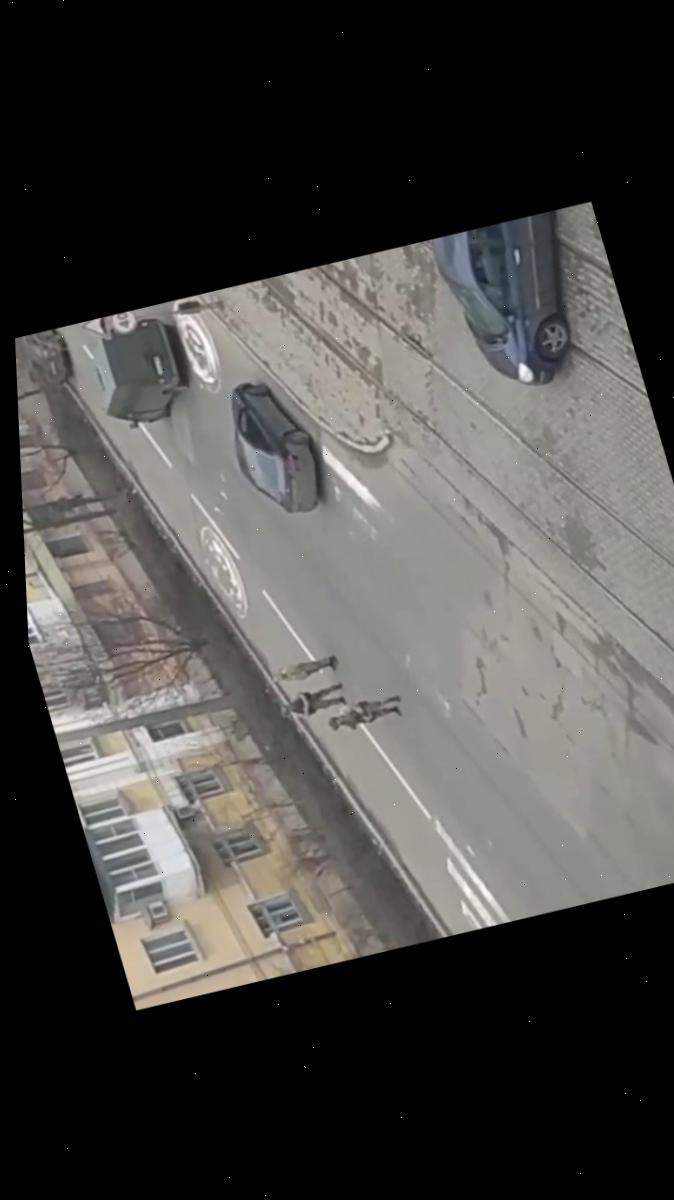car: (427, 206, 606, 402), (212, 368, 337, 528), (77, 307, 200, 436), (17, 326, 76, 390)
person: (323, 689, 408, 737), (276, 679, 349, 721), (268, 652, 341, 688)
